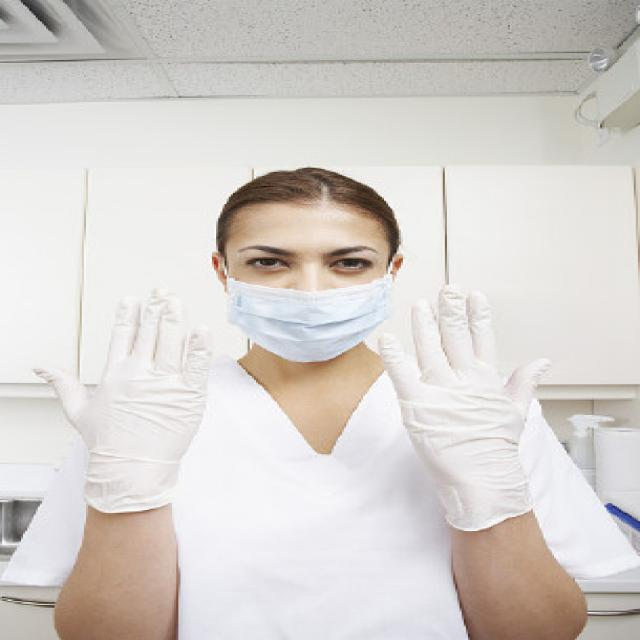mask: (225, 208, 388, 362)
